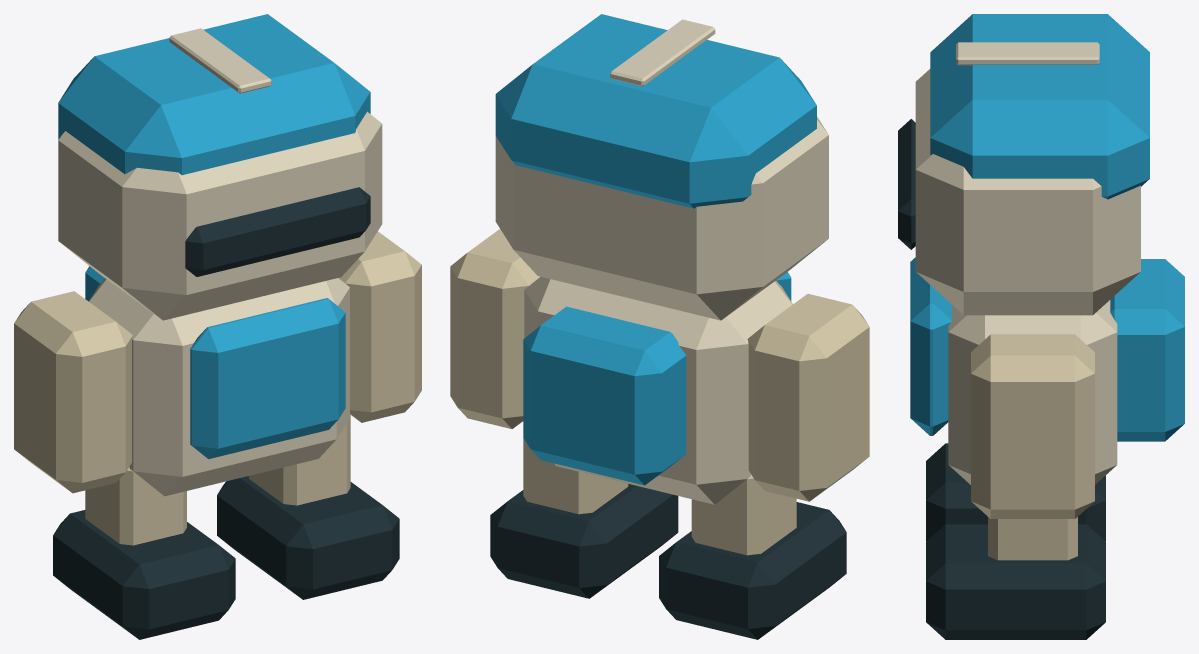
The model's file is allied-trooper.glb.
3 views of the same model, side by side, from view 1: azimuth 30°, elevation 25°; view 2: azimuth 150°, elevation 25°; view 3: azimuth 270°, elevation 25° (orthographic). The views are drawn at different scales.
Parts seen in each view (by area): view 1: allied-trooper_TOY_BODY_VERTEX_COLOR, allied-trooper_TEAM_BLUE; view 2: allied-trooper_TOY_BODY_VERTEX_COLOR, allied-trooper_TEAM_BLUE; view 3: allied-trooper_TOY_BODY_VERTEX_COLOR, allied-trooper_TEAM_BLUE.
Part boxes in pixels (x1,y1,x2,y2): allied-trooper_TOY_BODY_VERTEX_COLOR: [14, 28, 421, 639]; allied-trooper_TEAM_BLUE: [58, 14, 370, 459]; allied-trooper_TOY_BODY_VERTEX_COLOR: [450, 19, 869, 639]; allied-trooper_TEAM_BLUE: [495, 14, 816, 485]; allied-trooper_TOY_BODY_VERTEX_COLOR: [898, 42, 1140, 639]; allied-trooper_TEAM_BLUE: [910, 14, 1184, 441].
Size of the model in its own units: 0.76 by 1.04 by 0.5095.
